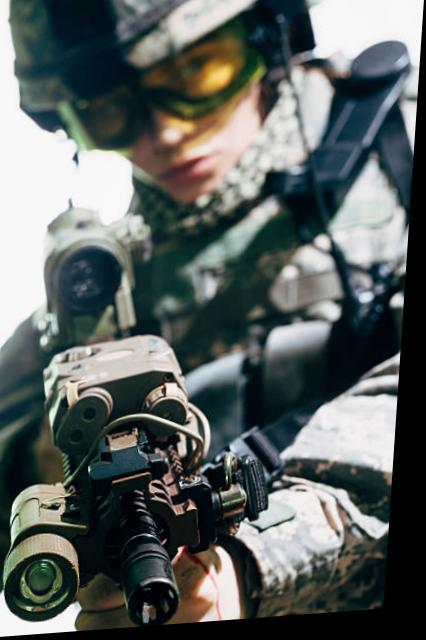other: (0, 0, 424, 630)
